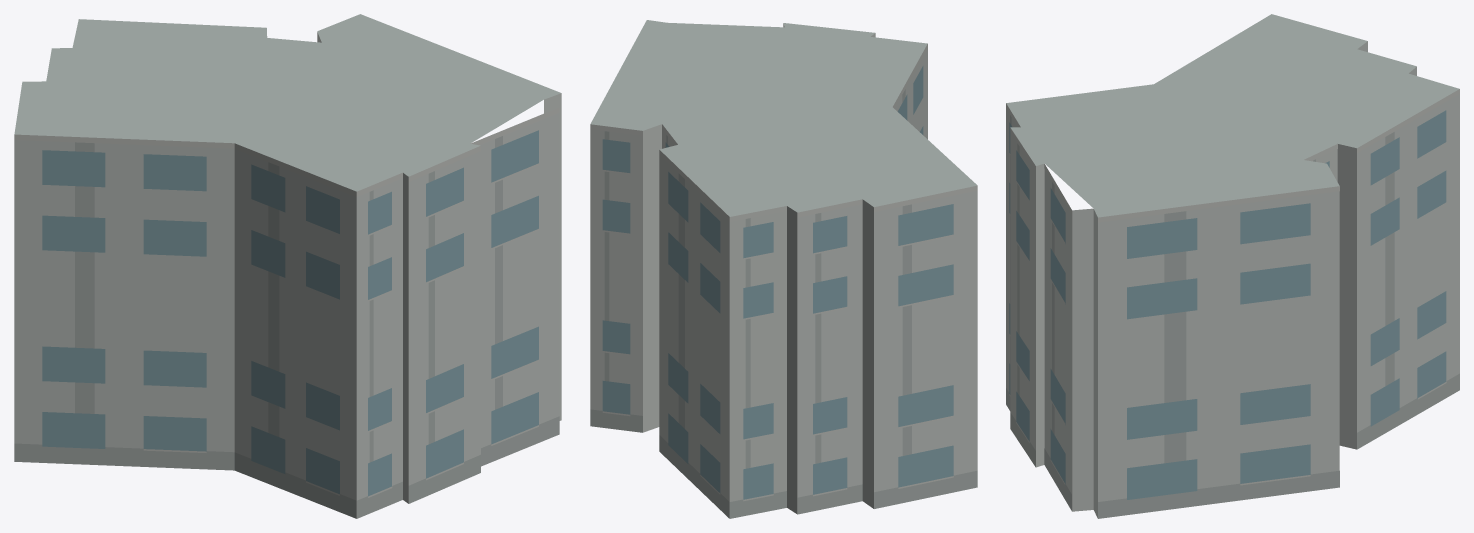
Rendered from survey-upis-32569564.glb.
3 renders of one model, left to right at view 1: azimuth 30°, elevation 25°; view 2: azimuth 150°, elevation 25°; view 3: azimuth 270°, elevation 25°, orthographic. The views are drawn at different scales.
Parts seen in each view (by area): view 1: survey-upis-32569564.tmp; view 2: survey-upis-32569564.tmp; view 3: survey-upis-32569564.tmp.
Part boxes in pixels (x1=…): survey-upis-32569564.tmp: x1=14, y1=14, x2=561, y2=518; survey-upis-32569564.tmp: x1=590, y1=20, x2=977, y2=518; survey-upis-32569564.tmp: x1=1006, y1=14, x2=1459, y2=518.
Size of the model in its own units: 21.06 by 14.53 by 19.84.
